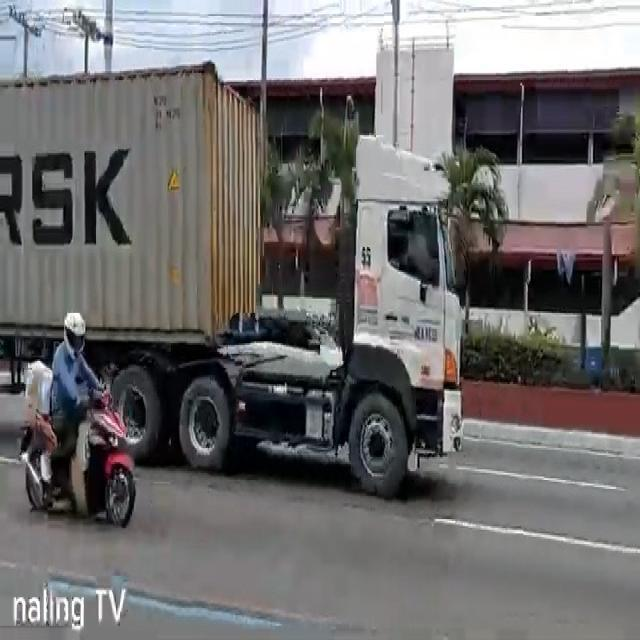motorcycle: (21, 310, 137, 530)
truck: (0, 57, 464, 501)
